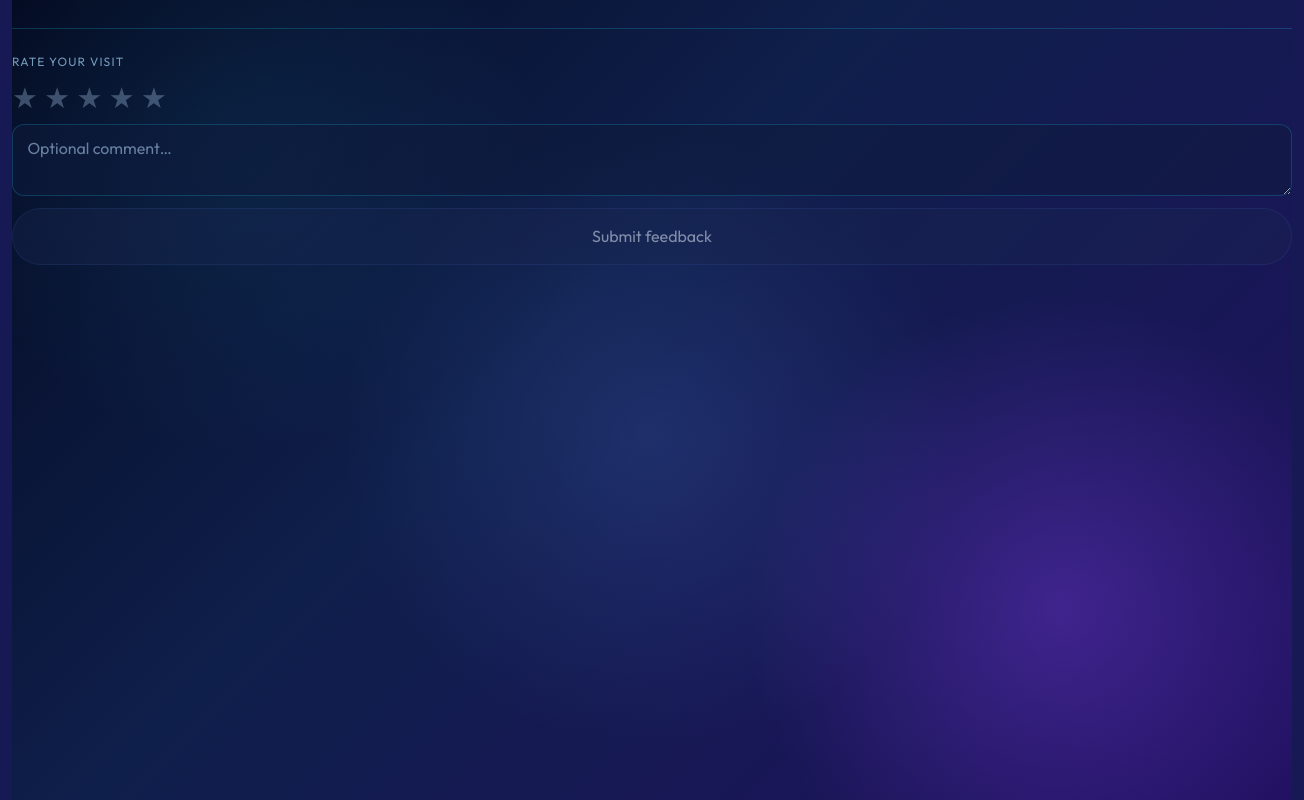
Test: FeedbackForm › submit button becomes enabled after a star is clicked
Click the button named "3 stars" at (89, 97), box [76, 83, 102, 112]
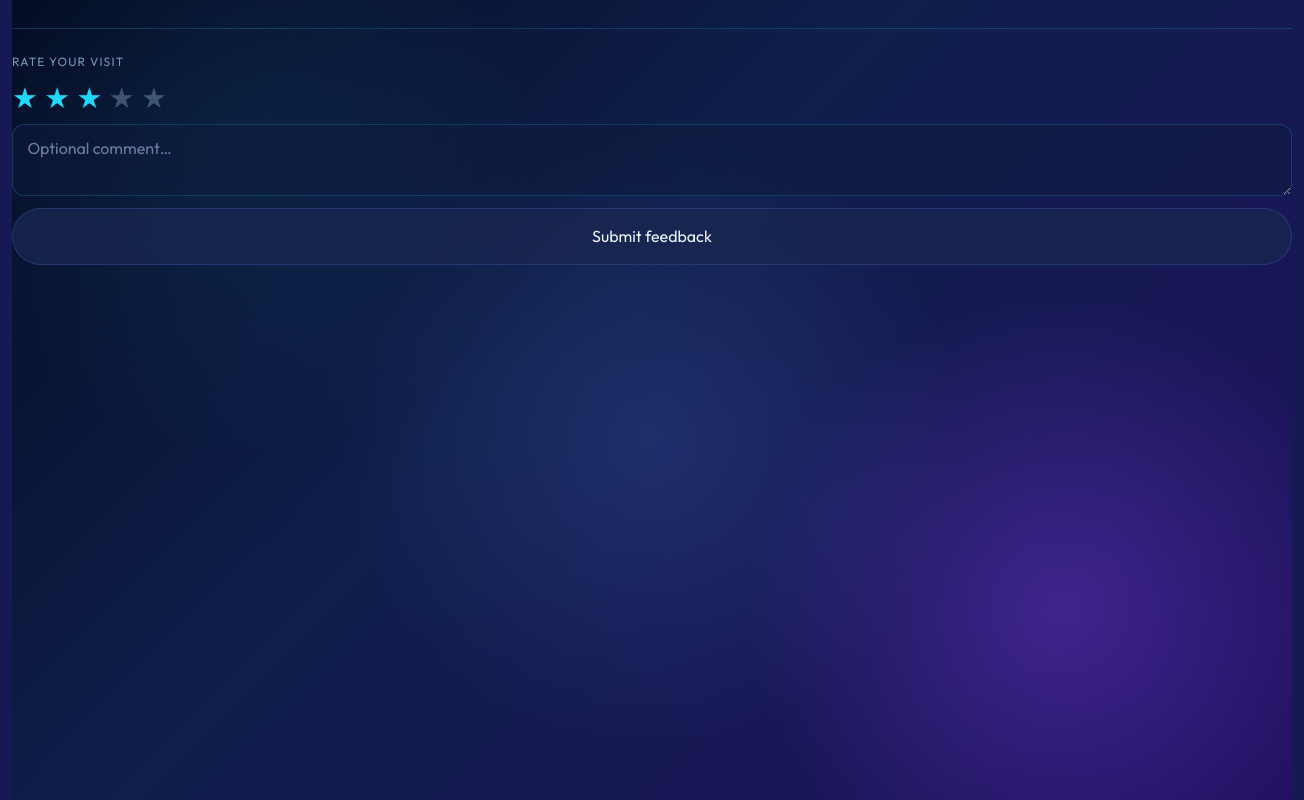
Now the button "Submit feedback" is enabled, box [12, 208, 1292, 265]
